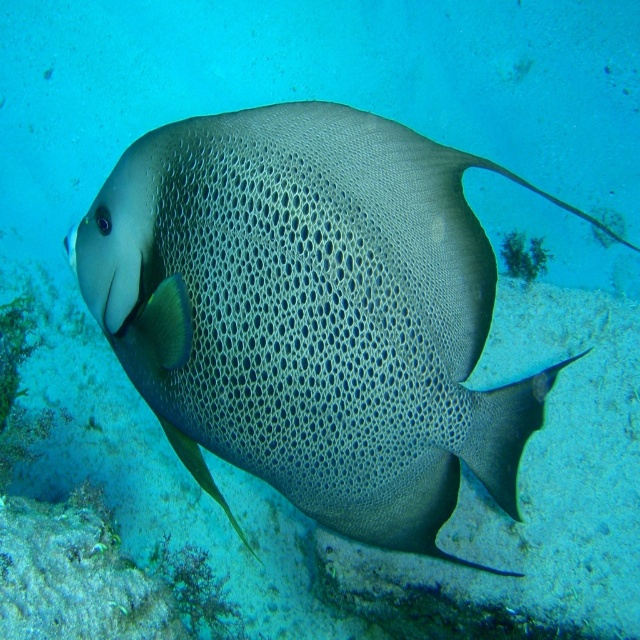Fish: (26, 77, 632, 611)
